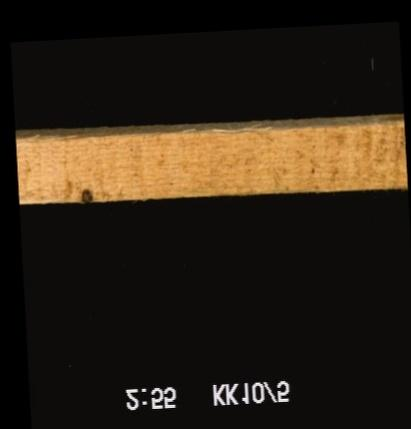edge_knot: (78, 186, 92, 201)
